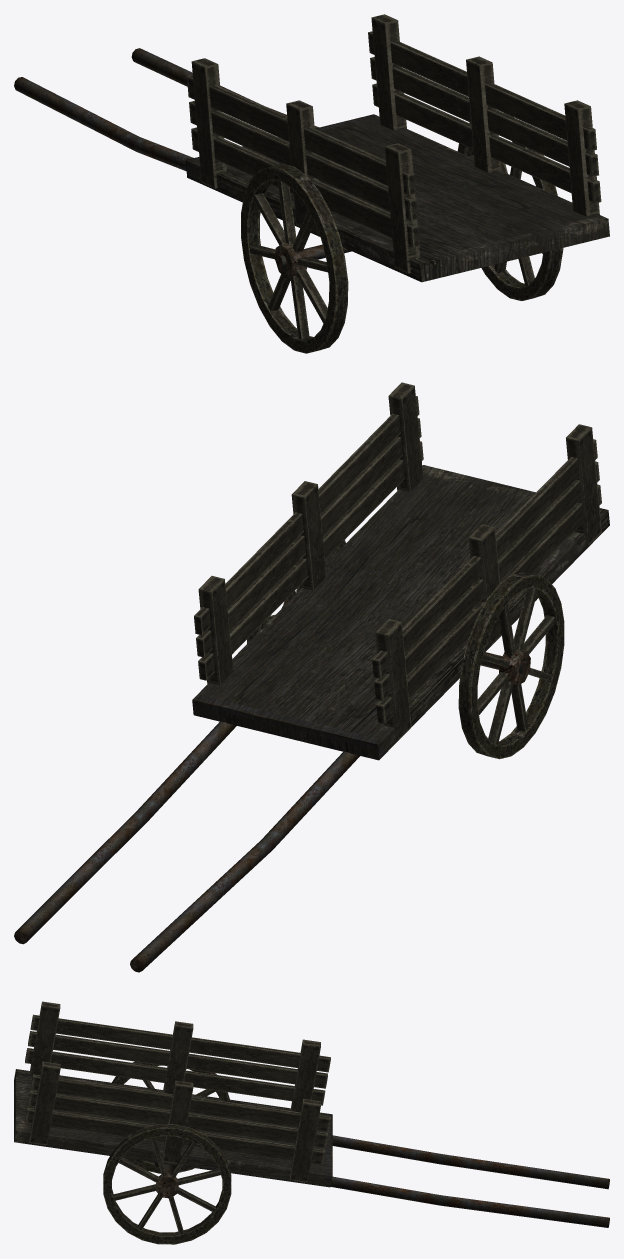
The model's file is wooden_cart_01.DAE.
The picture shows the model from 3 angles, top to bottom: view 1: azimuth 30°, elevation 25°; view 2: azimuth 150°, elevation 25°; view 3: azimuth 270°, elevation 25°; orthographic projection. The views are drawn at different scales.
Parts seen in each view (by area): view 1: Cylinder06; view 2: Cylinder06; view 3: Cylinder06.
Part boxes in pixels (x1,y1,x2,y2): Cylinder06: [14, 14, 609, 353]; Cylinder06: [14, 382, 609, 972]; Cylinder06: [14, 1001, 609, 1244].
Bounding box in the file's own units: 2.57 × 2.57 × 7.99.
